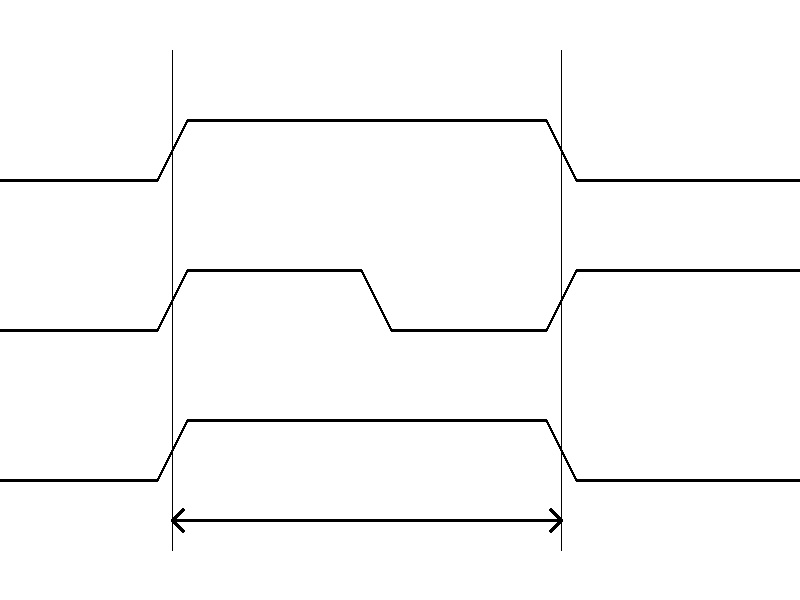double_arrow: (172, 505, 561, 535)
